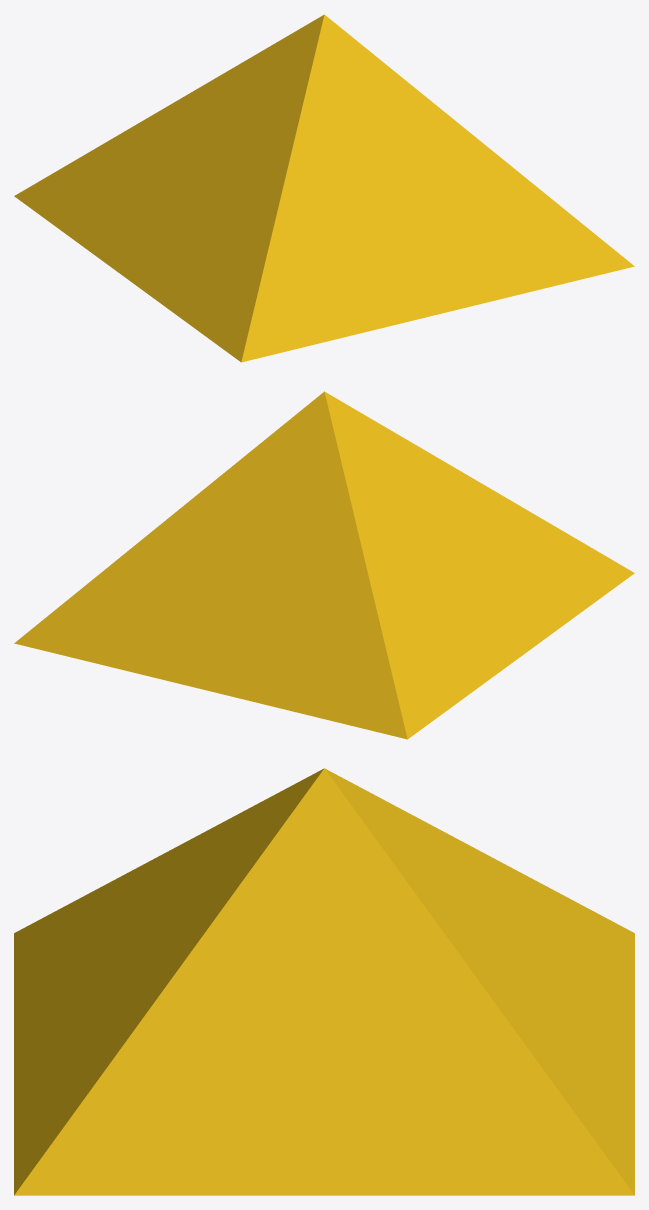
The picture shows the model from 3 angles, top to bottom: view 1: azimuth 30°, elevation 25°; view 2: azimuth 150°, elevation 25°; view 3: azimuth 270°, elevation 25°; orthographic projection. The views are drawn at different scales.
Parts seen in each view (by area): view 1: Cube; view 2: Cube; view 3: Cube.
Boxes of the visible parts, x1,y1,x2,y2 form: Cube: (14,14,634,362); Cube: (14,391,634,739); Cube: (14,768,634,1195).
Size of the model in its own units: 2 by 1.05 by 2.
